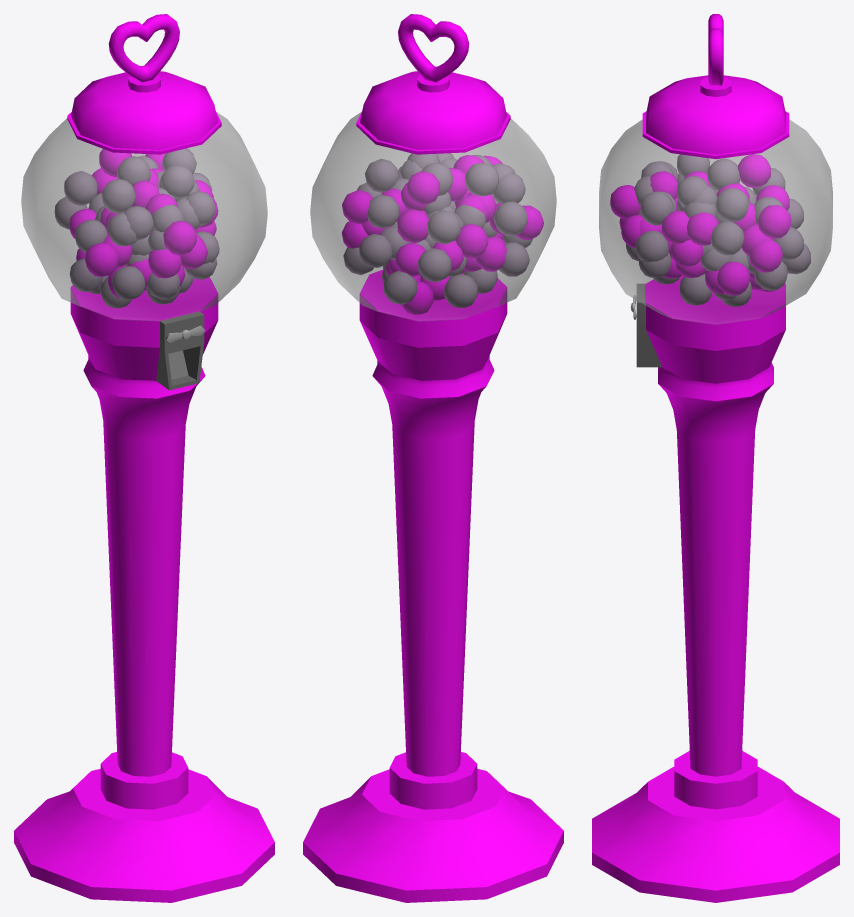
File: GumballMachine.fbx
The picture shows the model from 3 angles, left to right: view 1: azimuth 30°, elevation 25°; view 2: azimuth 150°, elevation 25°; view 3: azimuth 270°, elevation 25°; orthographic projection.
Visible parts, largest first — view 1: GumballMachine1; view 2: GumballMachine1; view 3: GumballMachine1.
Part boxes in pixels (x1,y1,x2,y2): GumballMachine1: (14,14,274,902); GumballMachine1: (303,14,563,902); GumballMachine1: (592,14,839,902).
Bounding box in the file's own units: 0.8955 × 3.12 × 0.8516.
